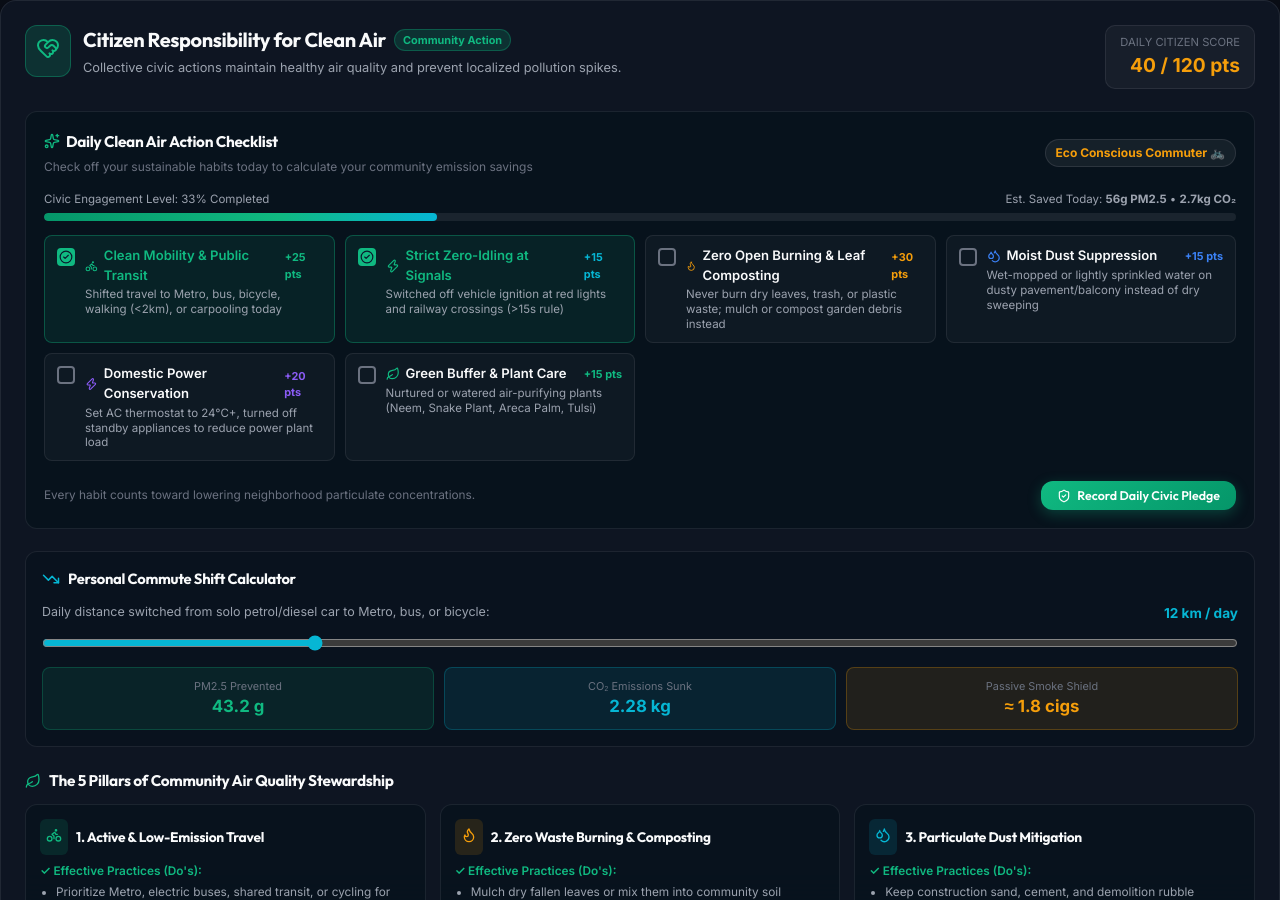
Test: CitizenResponsibilityCard Component › allows toggling citizen action checkboxes and updates earned score
Check: the text "40 / 120 pts" is shown, box [1130,53,1240,77]
Note: Toggle No Open Burning (+30 pts)
Step 1. Click the text "Zero Open Burning & Leaf Composting" → click(794, 266), box [702,246,885,285]
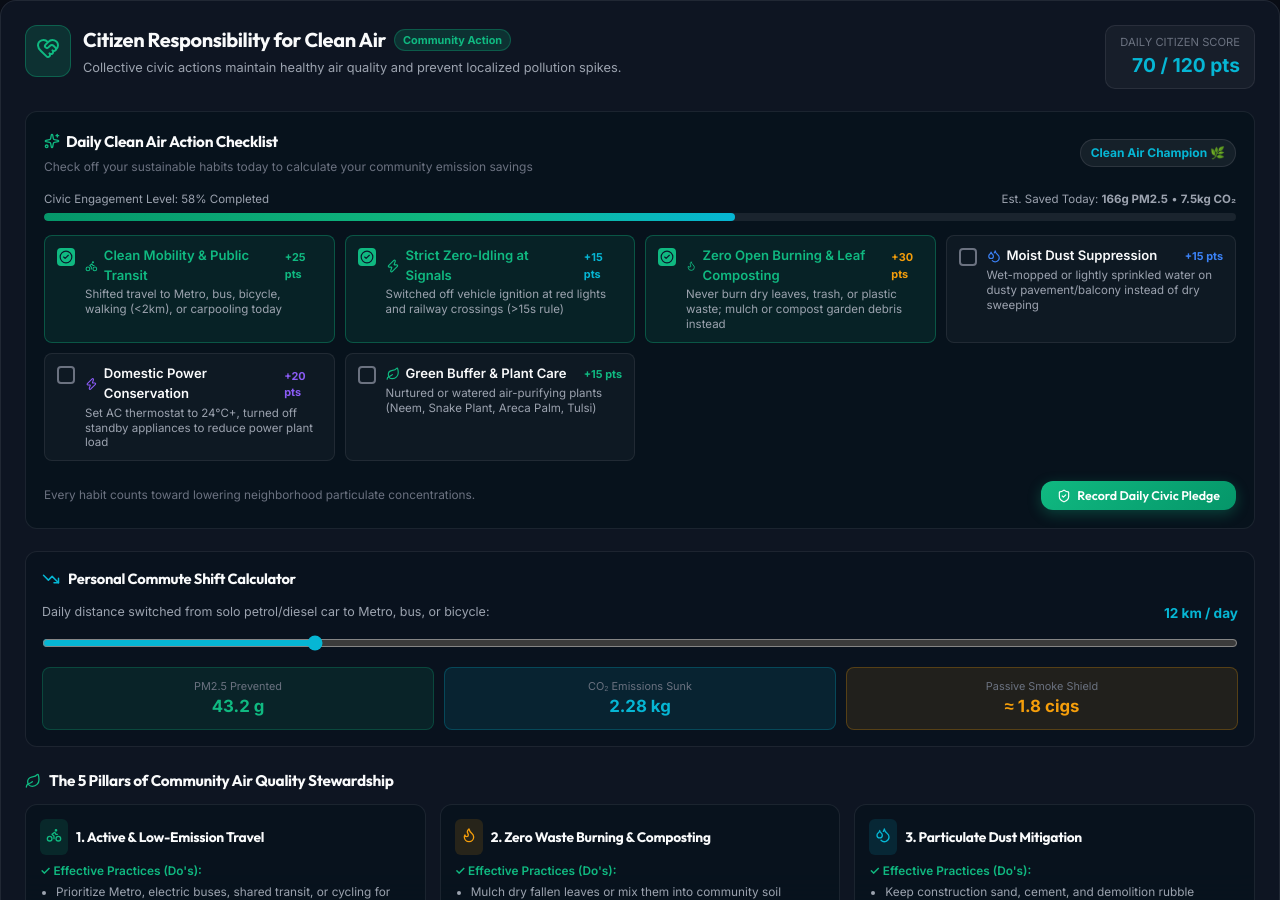
Check: the text "70 / 120 pts" is shown, box [1132,53,1240,77]
